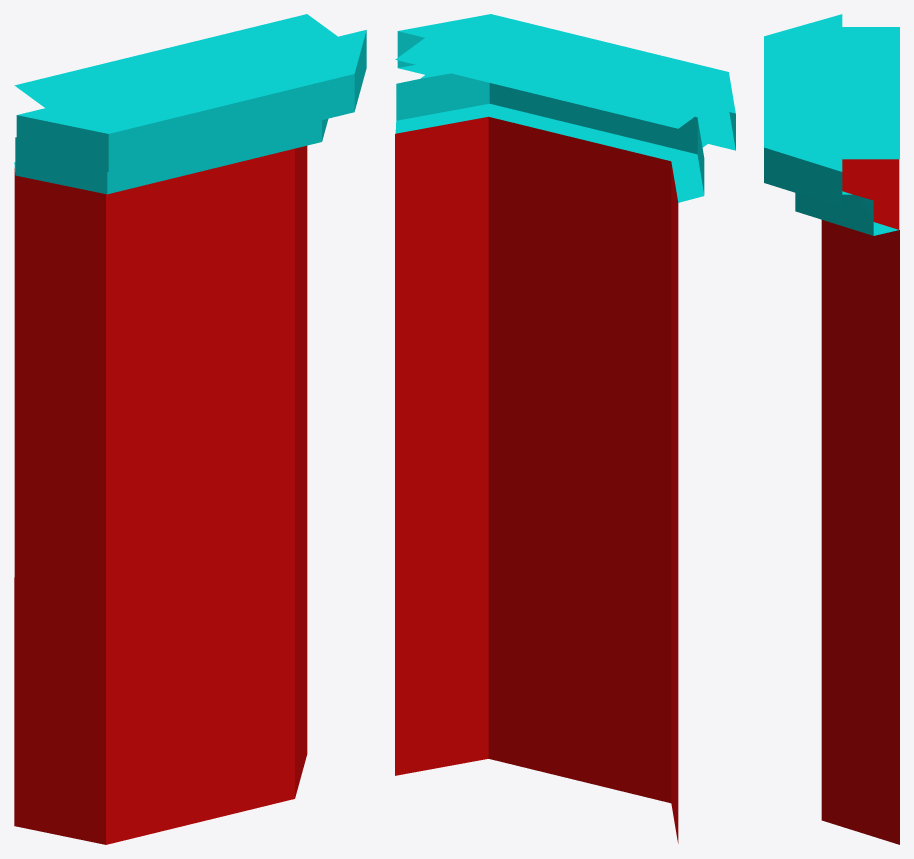
Rendered from Wall_Column.fbx.
3 renders of one model, left to right at view 1: azimuth 30°, elevation 25°; view 2: azimuth 150°, elevation 25°; view 3: azimuth 270°, elevation 25°, orthographic. The views are drawn at different scales.
Parts seen in each view (by area): view 1: Build_1_Column; view 2: Build_1_Column; view 3: Build_1_Column.
Boxes of the visible parts, x1,y1,x2,y2 form: Build_1_Column: (14,14,366,844); Build_1_Column: (395,14,735,843); Build_1_Column: (764,14,899,844).
Bounding box in the file's own units: 143 × 52 × 290.
